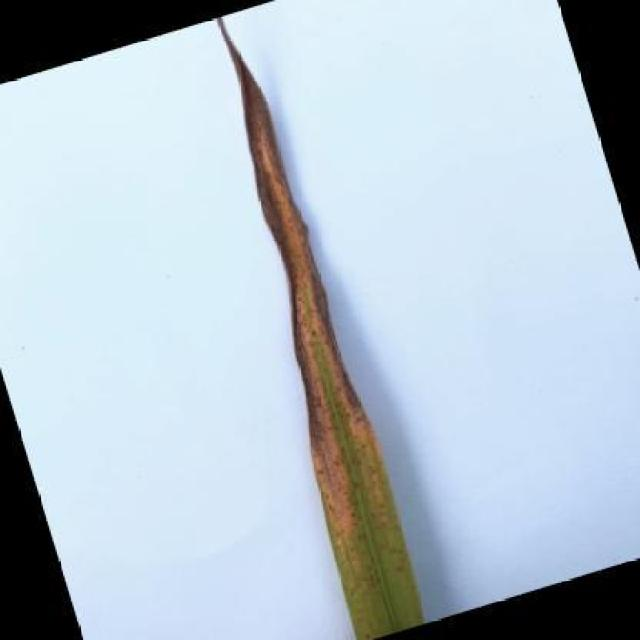Rice False Smut: (166, 7, 437, 640)
